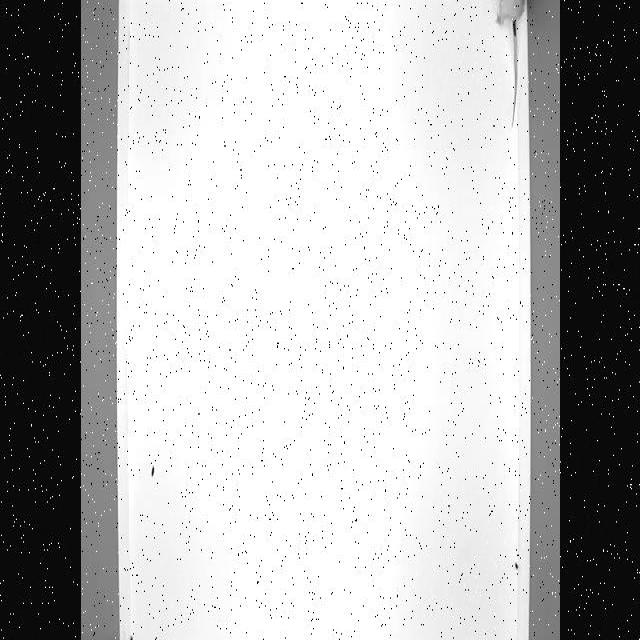rat: (487, 0, 529, 132)
